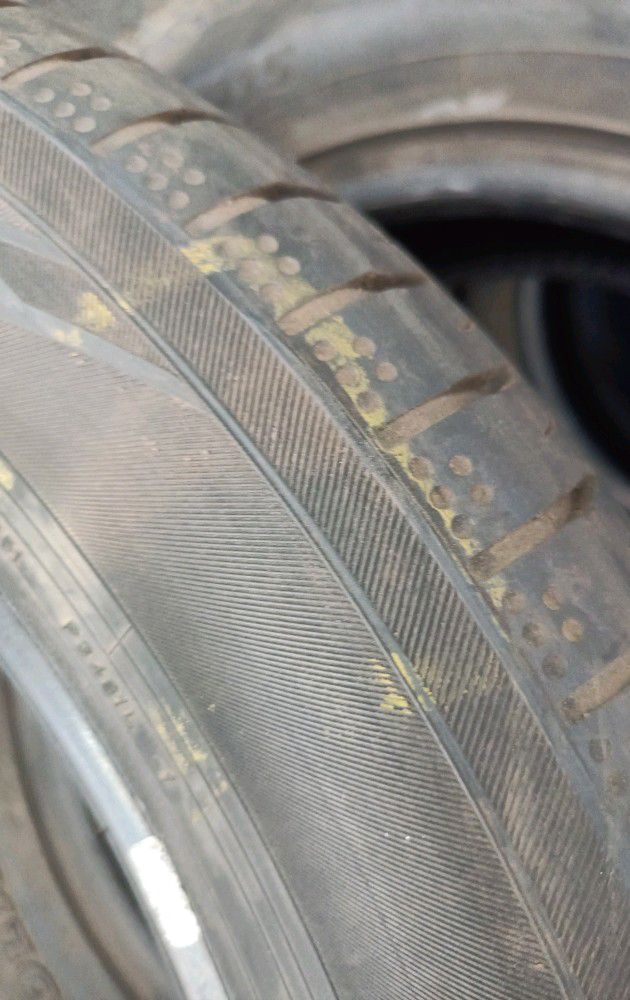CBU: (66, 399, 511, 839)
